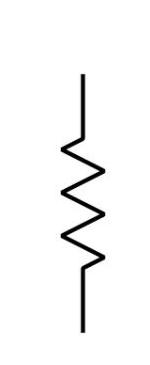resistor: (45, 110, 120, 294)
